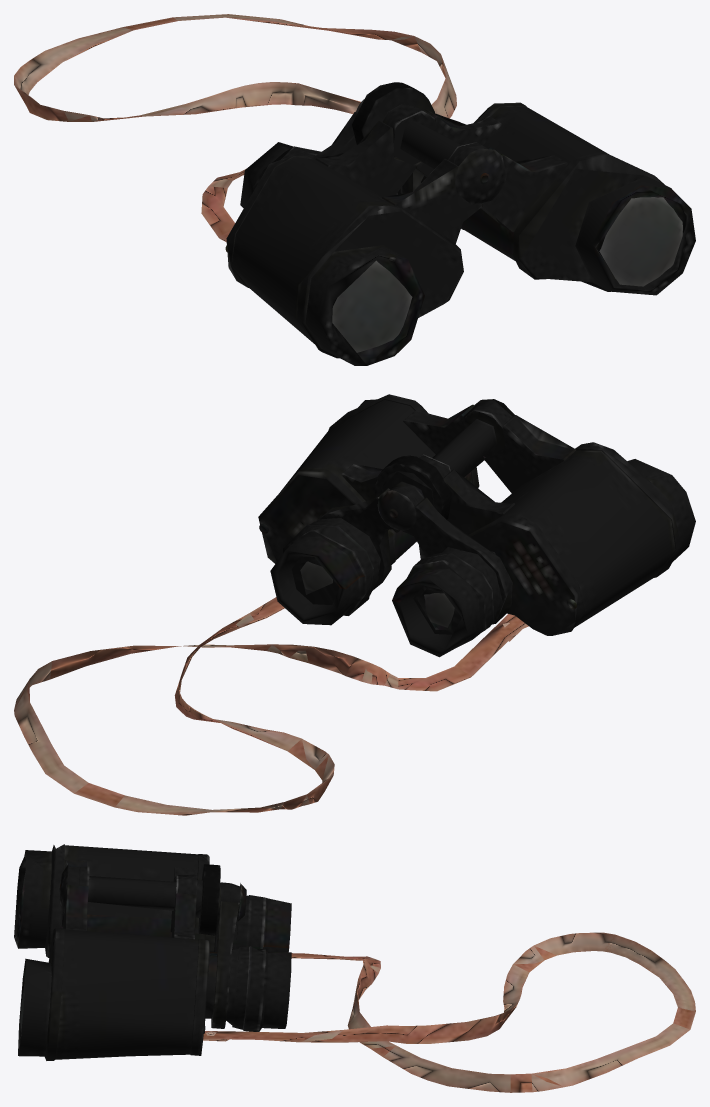
The model's file is binoculars.glb.
The picture shows the model from 3 angles, top to bottom: view 1: azimuth 30°, elevation 25°; view 2: azimuth 150°, elevation 25°; view 3: azimuth 270°, elevation 25°; orthographic projection. The views are drawn at different scales.
Parts seen in each view (by area): view 1: Cylinder002, Cylinder001, binoculars_strap, binoculars_column, Cylinder001_1, Cylinder002_1; view 2: Cylinder002, Cylinder001, binoculars_strap, binoculars_column, Cylinder002_1, Cylinder001_1; view 3: Cylinder001, binoculars_strap, Cylinder002, binoculars_column.
Part boxes in pixels (x1=…): Cylinder002: x1=225, y1=111, x2=482, y2=365; Cylinder001: x1=396, y1=102, x2=695, y2=295; binoculars_strap: x1=14, y1=14, x2=456, y2=242; binoculars_column: x1=352, y1=82, x2=506, y2=205; Cylinder001_1: x1=599, y1=197, x2=682, y2=286; Cylinder002_1: x1=332, y1=260, x2=412, y2=352; Cylinder002: x1=392, y1=415, x2=695, y2=657; Cylinder001: x1=258, y1=394, x2=485, y2=625; binoculars_strap: x1=14, y1=597, x2=528, y2=815; binoculars_column: x1=374, y1=399, x2=514, y2=531; Cylinder002_1: x1=424, y1=593, x2=454, y2=627; Cylinder001_1: x1=300, y1=561, x2=332, y2=591; Cylinder001: x1=18, y1=885, x2=291, y2=1060; binoculars_strap: x1=203, y1=932, x2=695, y2=1092; Cylinder002: x1=14, y1=844, x2=291, y2=957; binoculars_column: x1=59, y1=864, x2=246, y2=935.
Size of the model in its own units: 0.1664 by 0.0656 by 0.2877.
2 materials, 2 textured.
